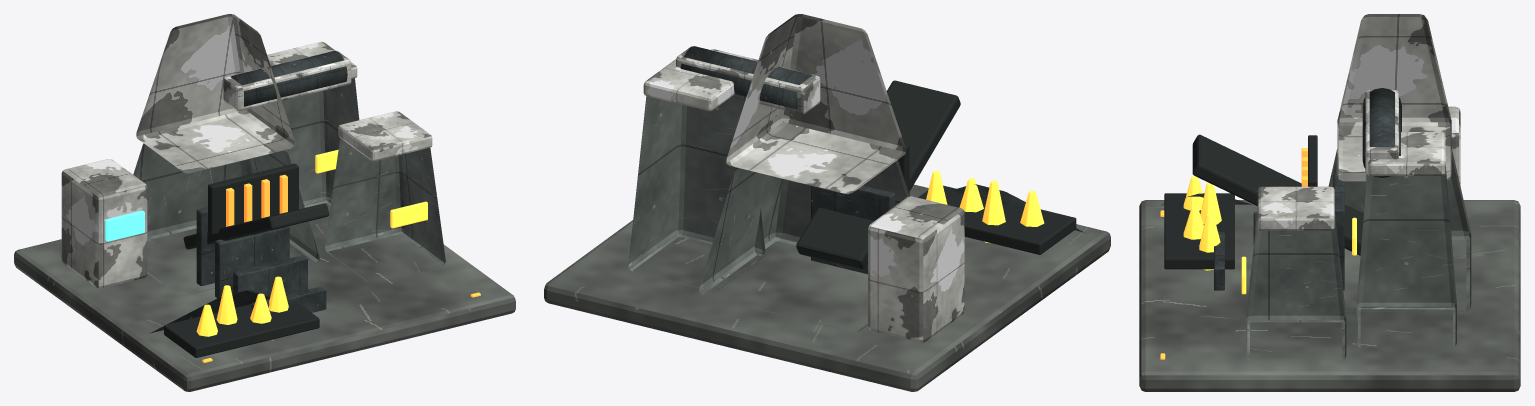
Rendered from refinery.glb.
3 renders of one model, left to right at view 1: azimuth 30°, elevation 25°; view 2: azimuth 150°, elevation 25°; view 3: azimuth 270°, elevation 25°, orthographic. The views are drawn at different scales.
Visible parts, largest first — view 1: refinery_concrete_dark, refinery_team_primary, refinery_factory_metal, refinery_armor_dark, refinery_rubber, refinery_resource_gold, refinery_team_accent, refinery_warning_emissive, refinery_glass_emissive; view 2: refinery_concrete_dark, refinery_team_primary, refinery_factory_metal, refinery_rubber, refinery_armor_dark, refinery_resource_gold, refinery_team_accent; view 3: refinery_concrete_dark, refinery_factory_metal, refinery_team_primary, refinery_rubber, refinery_armor_dark, refinery_resource_gold, refinery_team_accent, refinery_warning_emissive.
Boxes of the visible parts, left/top/right/bottom form: refinery_concrete_dark: left=14, top=203, right=515, bottom=391; refinery_team_primary: left=61, top=14, right=432, bottom=288; refinery_factory_metal: left=133, top=78, right=445, bottom=295; refinery_armor_dark: left=150, top=50, right=347, bottom=333; refinery_rubber: left=164, top=163, right=329, bottom=357; refinery_resource_gold: left=196, top=149, right=427, bottom=336; refinery_team_accent: left=223, top=50, right=351, bottom=110; refinery_warning_emissive: left=202, top=174, right=480, bottom=362; refinery_glass_emissive: left=105, top=210, right=144, bottom=241; refinery_concrete_dark: left=544, top=184, right=1110, bottom=391; refinery_team_primary: left=643, top=14, right=964, bottom=342; refinery_factory_metal: left=628, top=96, right=909, bottom=332; refinery_rubber: left=796, top=80, right=1076, bottom=269; refinery_armor_dark: left=680, top=46, right=1084, bottom=274; refinery_resource_gold: left=926, top=170, right=1044, bottom=243; refinery_team_accent: left=676, top=46, right=820, bottom=114; refinery_concrete_dark: left=1139, top=200, right=1520, bottom=391; refinery_factory_metal: left=1246, top=148, right=1471, bottom=360; refinery_team_primary: left=1257, top=14, right=1460, bottom=230; refinery_rubber: left=1164, top=134, right=1363, bottom=269; refinery_armor_dark: left=1161, top=88, right=1401, bottom=290; refinery_resource_gold: left=1183, top=176, right=1356, bottom=294; refinery_team_accent: left=1365, top=90, right=1398, bottom=175; refinery_warning_emissive: left=1160, top=148, right=1307, bottom=359.
Size of the model in its own units: 5 by 3.53 by 4.56.
9 materials, 5 textured.
